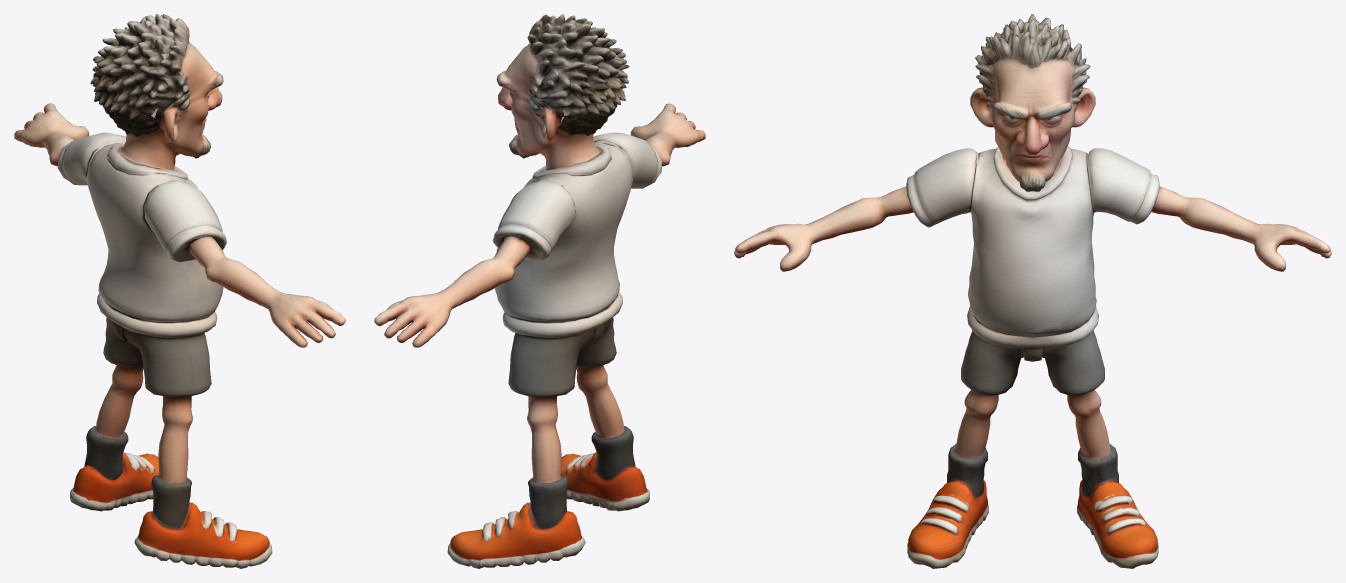
3 renders of one model, left to right at view 1: azimuth 30°, elevation 25°; view 2: azimuth 150°, elevation 25°; view 3: azimuth 270°, elevation 25°, orthographic.
Parts seen in each view (by area): view 1: tripo_node_4ffb7832; view 2: tripo_node_4ffb7832; view 3: tripo_node_4ffb7832.
Part boxes in pixels (x1,y1,x2,y2): tripo_node_4ffb7832: [14, 14, 345, 568]; tripo_node_4ffb7832: [374, 14, 705, 568]; tripo_node_4ffb7832: [734, 14, 1331, 568].
Bounding box in the file's own units: 0.2387 × 0.9667 × 1.
Materials: 1 (1 with a texture image).
